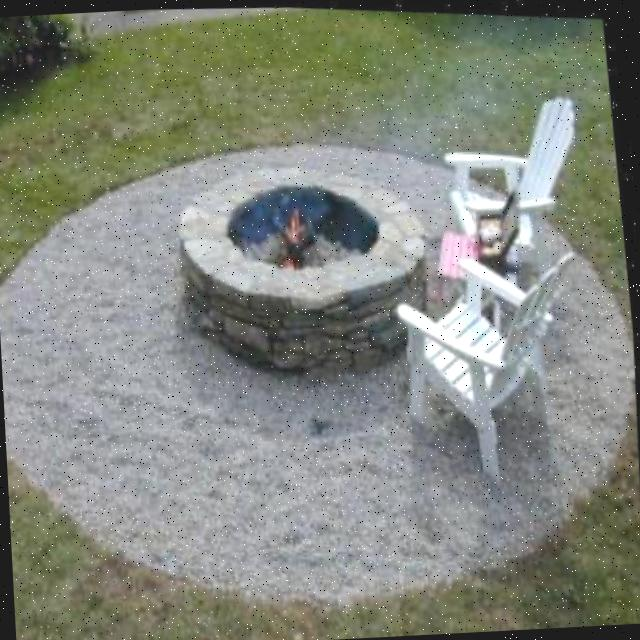fire: (284, 203, 315, 260)
